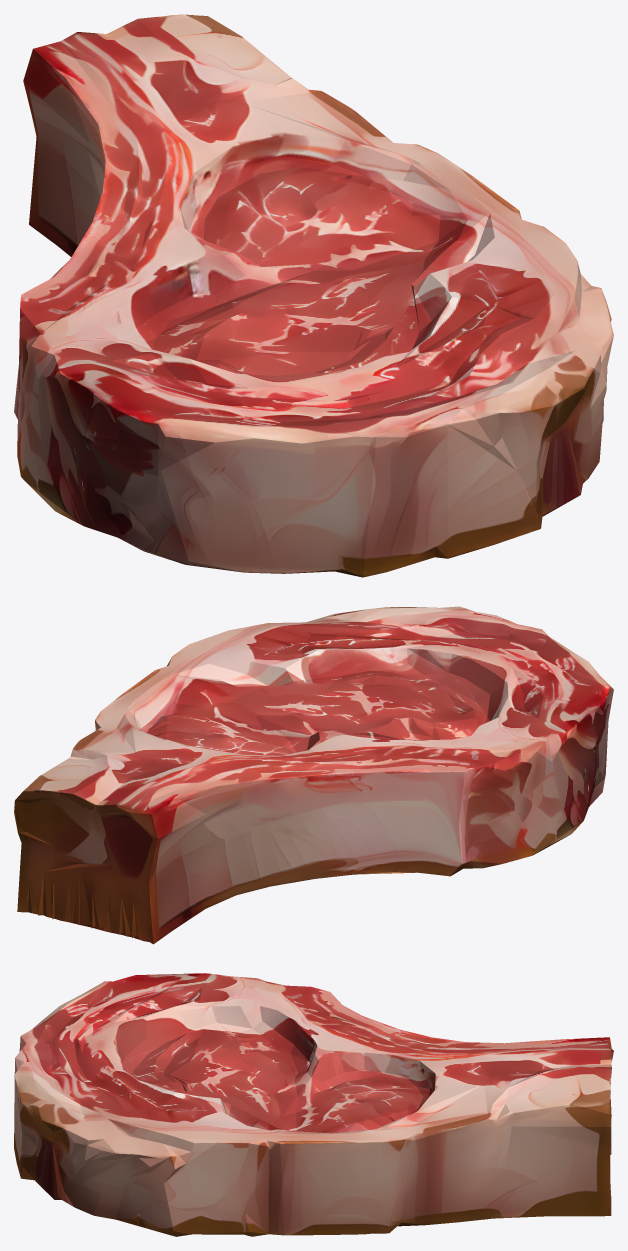
The model's file is base_basic_pbr.fbx.
The picture shows the model from 3 angles, top to bottom: view 1: azimuth 30°, elevation 25°; view 2: azimuth 150°, elevation 25°; view 3: azimuth 270°, elevation 25°; orthographic projection. The views are drawn at different scales.
Parts seen in each view (by area): view 1: model; view 2: model; view 3: model.
Boxes of the visible parts, x1,y1,x2,y2 form: model: (14, 14, 613, 577); model: (14, 606, 613, 944); model: (14, 973, 613, 1236).
Size of the model in its own units: 121 by 40.83 by 178.
1 material, 1 textured.
